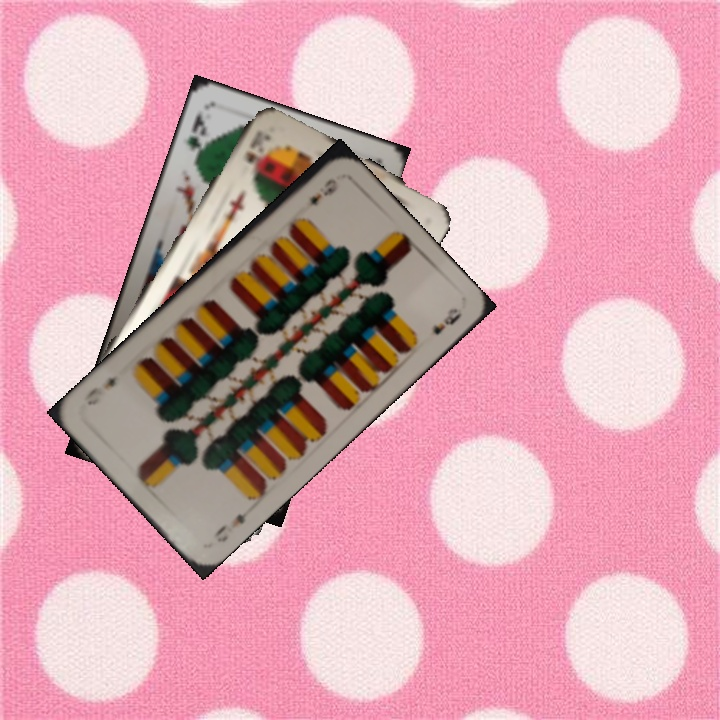E9: (209, 504, 254, 545), (305, 174, 340, 209)
GK: (182, 109, 210, 164)
SK: (241, 130, 275, 177)
